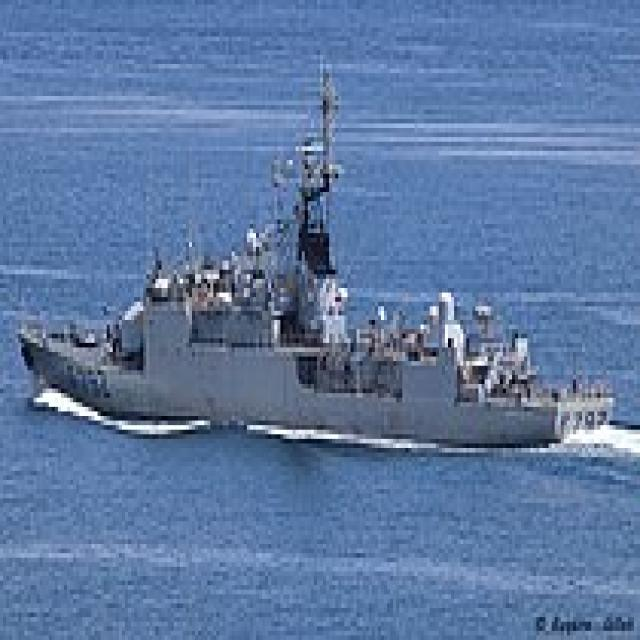Warship: (12, 55, 610, 443)
